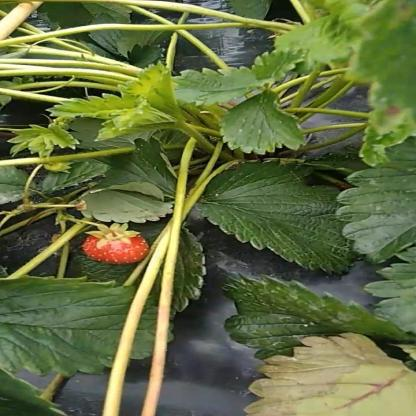ripe: (80, 230, 155, 266)
